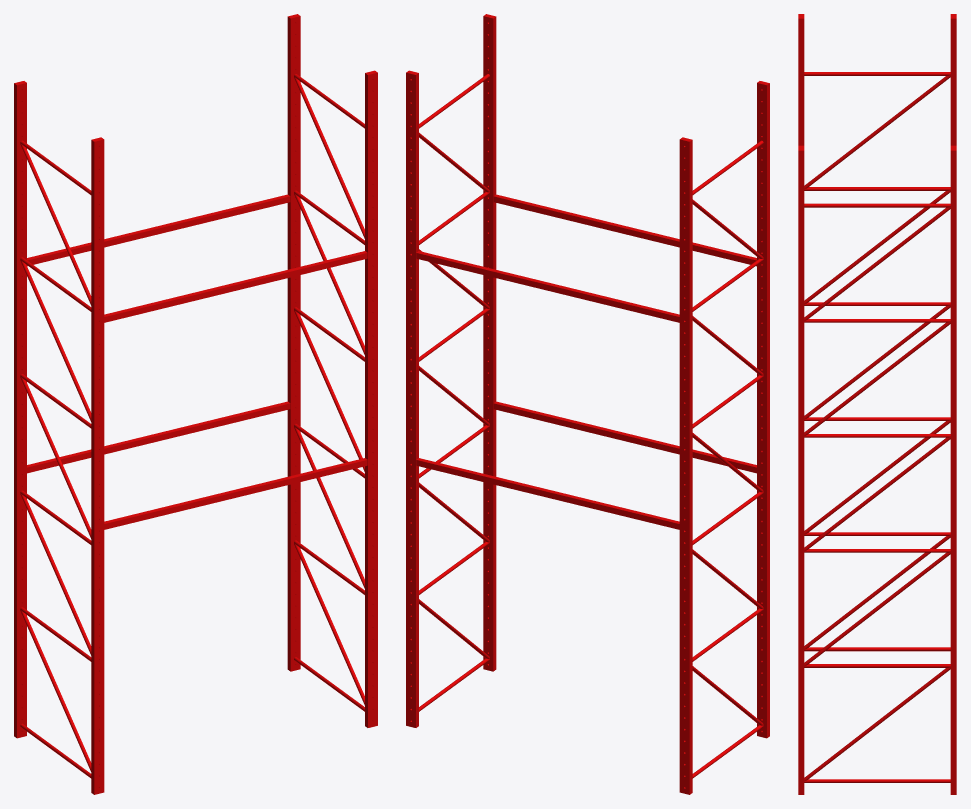
The model's file is Pallet_Rack_2-5x5-6_V2.fbx.
3 renders of one model, left to right at view 1: azimuth 30°, elevation 25°; view 2: azimuth 150°, elevation 25°; view 3: azimuth 270°, elevation 25°, orthographic.
Parts seen in each view (by area): view 1: Rack_R_V2.001; view 2: Rack_R_V2.001; view 3: Rack_R_V2.001.
Part boxes in pixels (bbox=[...]): Rack_R_V2.001: bbox=[14, 14, 377, 794]; Rack_R_V2.001: bbox=[406, 14, 769, 794]; Rack_R_V2.001: bbox=[798, 14, 956, 794].
Size of the model in its own units: 254 by 560 by 125.
